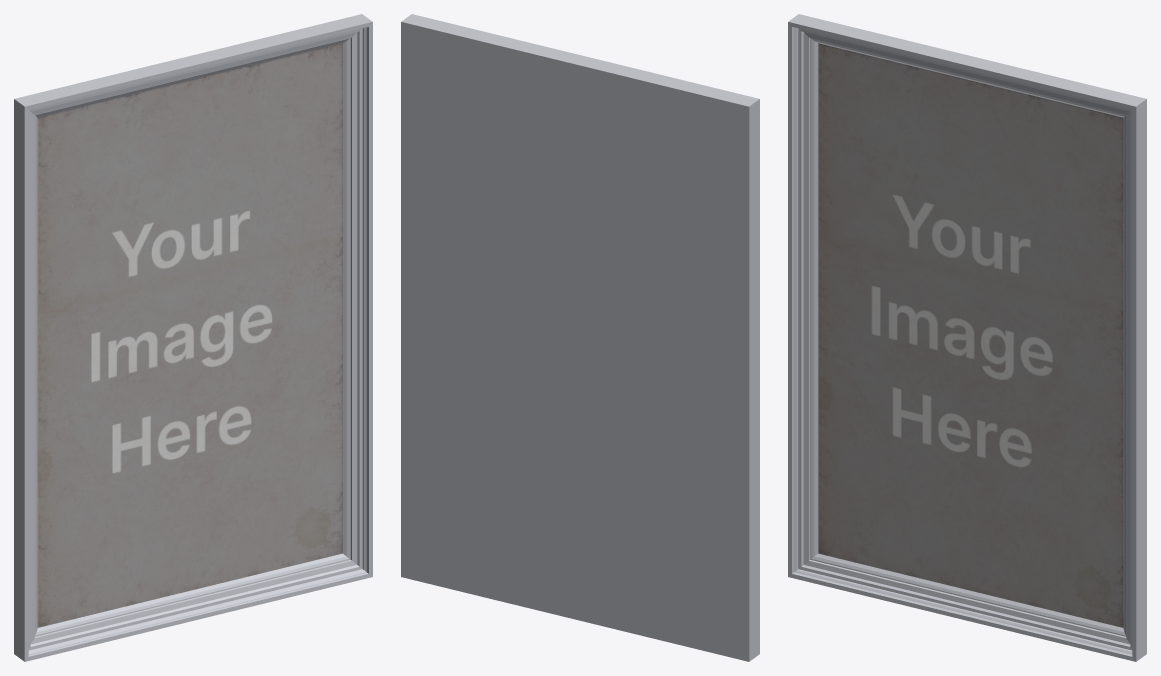
The model's file is PhotoFrame.glb.
The picture shows the model from 3 angles, left to right: view 1: azimuth 30°, elevation 25°; view 2: azimuth 150°, elevation 25°; view 3: azimuth 330°, elevation 25°; orthographic projection.
Parts seen in each view (by area): view 1: Picture, Frame.v1.1; view 2: Frame.v1.1; view 3: Picture, Frame.v1.1.
Boxes of the visible parts, x1,y1,x2,y2 form: Picture: [37, 43, 342, 627]; Frame.v1.1: [14, 14, 372, 661]; Frame.v1.1: [401, 14, 759, 661]; Picture: [818, 43, 1123, 627]; Frame.v1.1: [788, 14, 1146, 661].
Size of the model in its own units: 0.1442 by 0.2198 by 0.00767.
2 materials, 1 textured.
